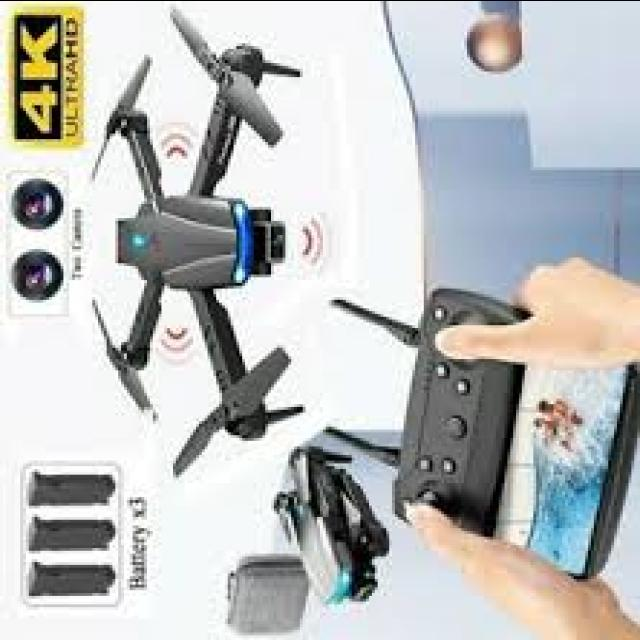drone: (91, 13, 329, 479)
